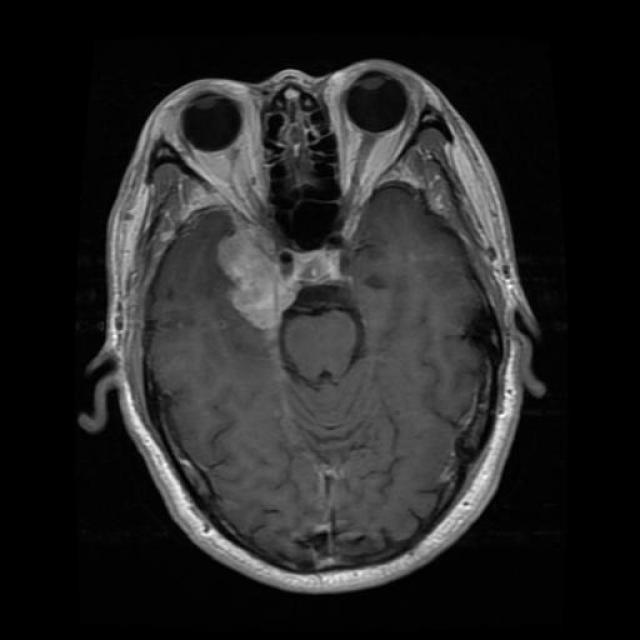Brain-Tumor: (212, 218, 292, 338)
eye: (167, 67, 270, 212), (327, 63, 424, 198)
